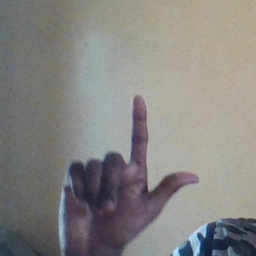L: (54, 93, 201, 251)
